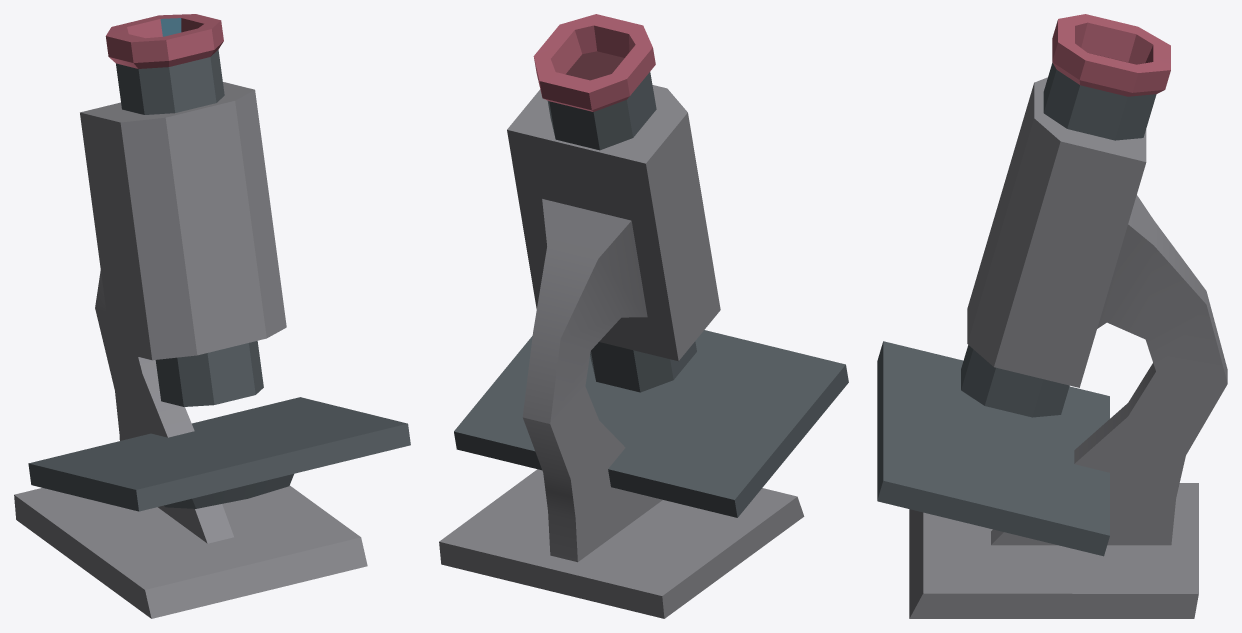
The model's file is microscope.fbx.
The picture shows the model from 3 angles, left to right: view 1: azimuth 30°, elevation 25°; view 2: azimuth 150°, elevation 25°; view 3: azimuth 270°, elevation 25°; orthographic projection. The views are drawn at different scales.
Parts seen in each view (by area): view 1: microscope; view 2: microscope; view 3: microscope.
Part boxes in pixels (x1,y1,x2,y2): microscope: [14, 14, 410, 618]; microscope: [439, 14, 848, 618]; microscope: [877, 14, 1227, 618].
Bounding box in the file's own units: 28.01 × 49.85 × 29.73.
1 material, 1 textured.
